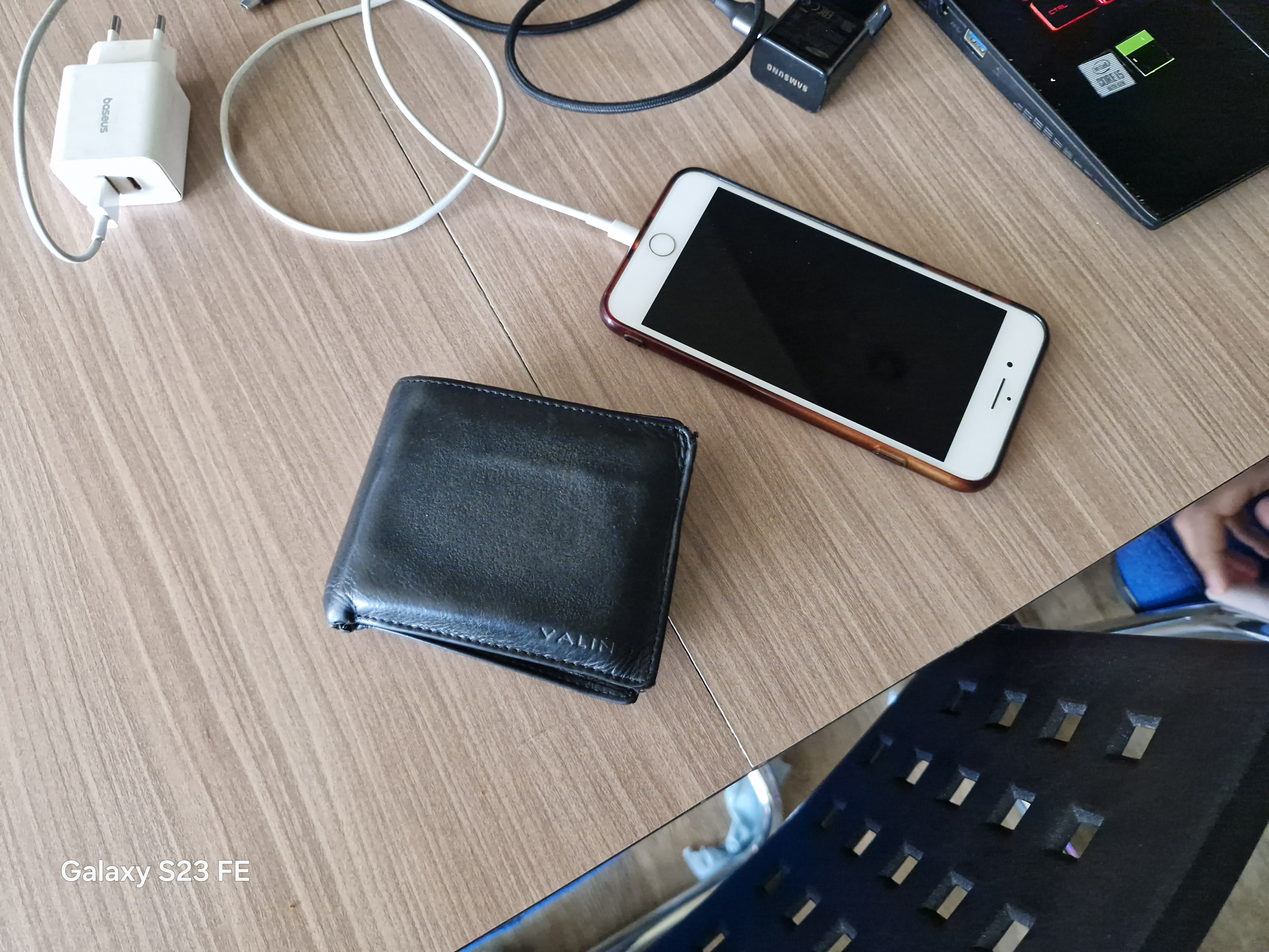cell phone: (601, 169, 1047, 490)
chair: (462, 559, 1268, 951)
laptop: (917, 0, 1268, 228)
person: (1174, 459, 1268, 598)
plug: (50, 17, 190, 212), (750, 0, 891, 111)
table-merged: (0, 0, 1268, 951), (1214, 0, 1268, 52)
wallet: (324, 377, 696, 703)
